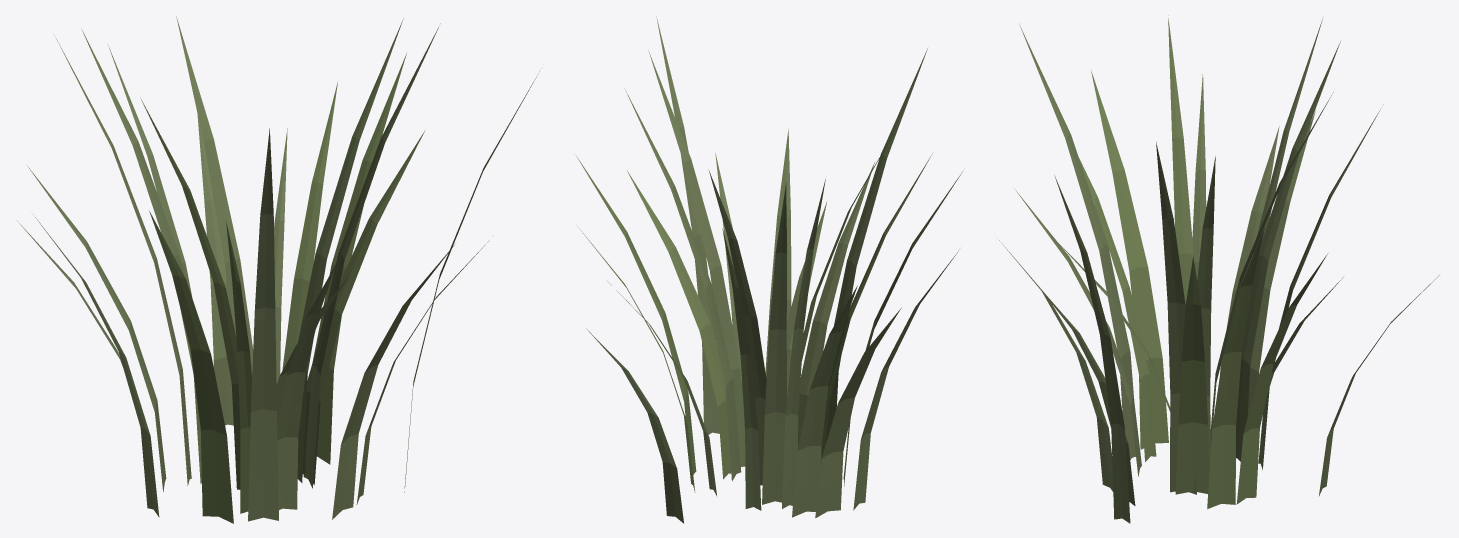
File: NA_Grass_3.glb
The picture shows the model from 3 angles, left to right: view 1: azimuth 30°, elevation 25°; view 2: azimuth 150°, elevation 25°; view 3: azimuth 270°, elevation 25°; orthographic projection. The views are drawn at different scales.
Parts seen in each view (by area): view 1: NA_Grass_3; view 2: NA_Grass_3; view 3: NA_Grass_3.
Boxes of the visible parts, left/top/right/bottom form: NA_Grass_3: left=17, top=16, right=539, bottom=523; NA_Grass_3: left=576, top=16, right=962, bottom=523; NA_Grass_3: left=997, top=15, right=1439, bottom=523.
Bounding box in the file's own units: 0.5004 × 0.4996 × 0.493.
2 materials, 1 textured.
